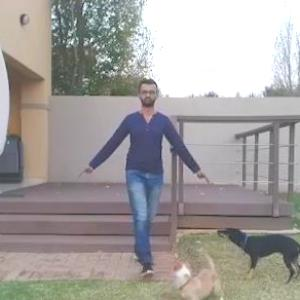land: (101, 92, 185, 248)
